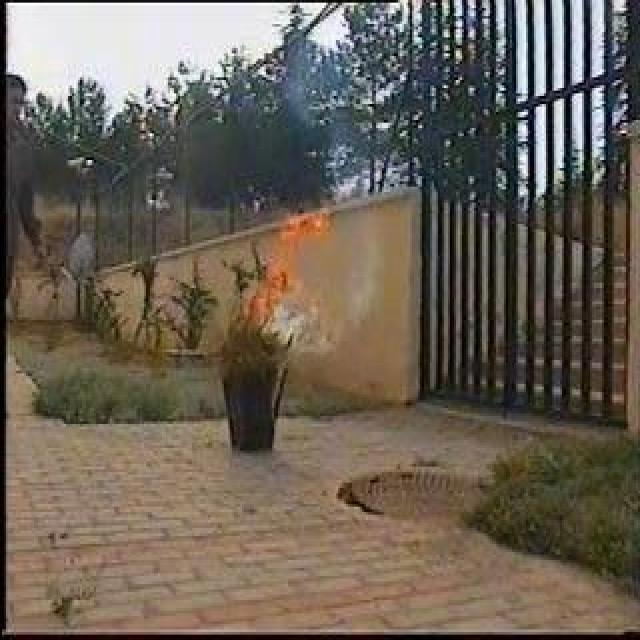fire: (269, 208, 328, 281)
smoke: (268, 296, 324, 346)
